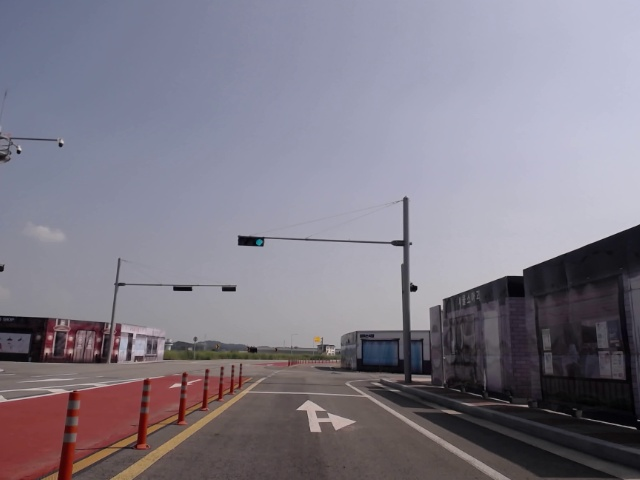green_3: (238, 236, 264, 247)
